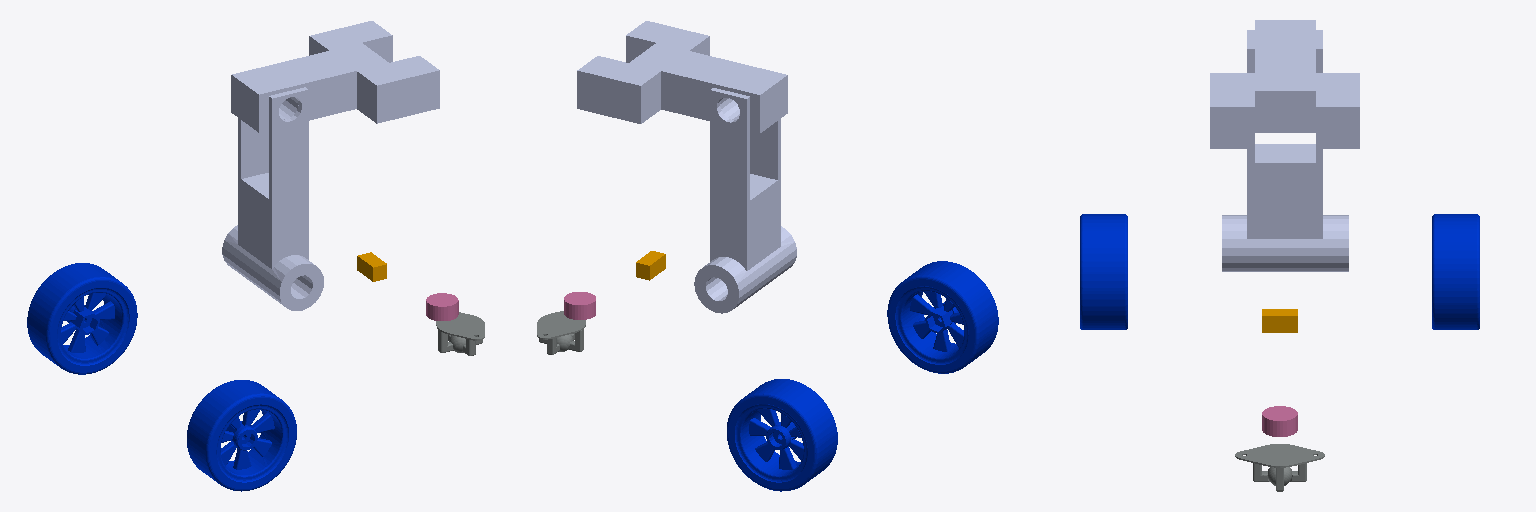
robot.urdf — robot_arm_01:
<?xml version="1.0" encoding="utf-8"?>
<!-- This URDF was automatically created by SolidWorks to URDF Exporter! Originally created by [author] ([email redacted]) 
     Commit Version: 1.6.0-4-g7f85cfe  Build Version: 1.6.7995.38578
     For more information, please see http://wiki.ros.org/sw_urdf_exporter -->
<robot
  name="robot_arm_01">
  <link
    name="base_link">
    <inertial>
      <origin
        xyz="0.0564924196054146 -1.44043492011914E-06 0.00775181685369958"
        rpy="0 0 0" />
      <mass
        value="1.0611224303635671" />
      <inertia
        ixx="0.000949147493648086"
        ixy="3.30685281440265E-09"
        ixz="3.71372356368858E-07"
        iyy="0.0010057196938717"
        iyz="-4.15339567209004E-11"
        izz="0.00191346803726957" />
    </inertial>
    <visual>
      <origin
        xyz="0 0 0"
        rpy="0 0 0" />
      <geometry>
        <mesh
          filename="package://robot_arm_01/meshes/base_link.STL" />
      </geometry>
      <material
        name="">
        <color
          rgba="0.647058823529412 0.619607843137255 0.588235294117647 1" />
      </material>
    </visual>
    <collision>
      <origin
        xyz="0 0 0"
        rpy="0 0 0" />
      <geometry>
        <mesh
          filename="package://robot_arm_01/meshes/base_link.STL" />
      </geometry>
    </collision>
  </link>
  <link
    name="right_wheel_link">
    <inertial>
      <origin
        xyz="-1.34379867899881E-06 -6.23203130722949E-06 -1.10965151169096E-06"
        rpy="0 0 0" />
      <mass
        value="0.0535214416968655" />
      <inertia
        ixx="2.19071660369465E-05"
        ixy="9.8742502469194E-09"
        ixz="-2.21236346159322E-11"
        iyy="3.82236488757542E-05"
        iyz="2.83438951001983E-13"
        izz="2.19071683079018E-05" />
    </inertial>
    <visual>
      <origin
        xyz="0 0 0"
        rpy="0 0 0" />
      <geometry>
        <mesh
          filename="package://robot_arm_01/meshes/right_wheel_link.STL" />
      </geometry>
      <material
        name="">
        <color
          rgba="0.00784313725490196 0.23921568627451 0.823529411764706 1" />
      </material>
    </visual>
    <collision>
      <origin
        xyz="0 0 0"
        rpy="0 0 0" />
      <geometry>
        <mesh
          filename="package://robot_arm_01/meshes/right_wheel_link.STL" />
      </geometry>
    </collision>
  </link>
  <joint
    name="right_wheel_joint"
    type="continuous">
    <origin
      xyz="0 -0.098575 0"
      rpy="0 0 0.00060515" />
    <parent
      link="base_link" />
    <child
      link="right_wheel_link" />
    <axis
      xyz="0 1 0" />

    <limit
      effort="30"
      velocity="0.5" />
  </joint>
  <link
    name="left_wheel_link">
    <inertial>
      <origin
        xyz="-1.59210369621299E-06 6.23380796593853E-06 6.92949931584835E-07"
        rpy="0 0 0" />
      <mass
        value="0.0535214416968649" />
      <inertia
        ixx="2.19071548484918E-05"
        ixy="9.87352239794537E-09"
        ixz="1.64937927801485E-11"
        iyy="3.8223648876639E-05"
        iyz="1.55802829764669E-13"
        izz="2.19071794954712E-05" />
    </inertial>
    <visual>
      <origin
        xyz="0 0 0"
        rpy="0 0 0" />
      <geometry>
        <mesh
          filename="package://robot_arm_01/meshes/left_wheel_link.STL" />
      </geometry>
      <material
        name="">
        <color
          rgba="0.00784313725490196 0.23921568627451 0.823529411764706 1" />
      </material>
    </visual>
    <collision>
      <origin
        xyz="0 0 0"
        rpy="0 0 0" />
      <geometry>
        <mesh
          filename="package://robot_arm_01/meshes/left_wheel_link.STL" />
      </geometry>
    </collision>
  </link>
  <joint
    name="left_wheel_joint"
    type="continuous">
    <origin
      xyz="0 0.098575 0"
      rpy="0 0 0.00060515" />
    <parent
      link="base_link" />
    <child
      link="left_wheel_link" />
    <axis
      xyz="0 1 0" />
    <limit
      effort="30"
      velocity="0.5" />
  </joint>
  <link
    name="arm_01_link">
    <inertial>
      <origin
        xyz="8.22111322307251E-06 0.003 0.0272587782193002"
        rpy="0 0 0" />
      <mass
        value="0.102538043838268" />
      <inertia
        ixx="0.000129174353703012"
        ixy="-7.06346068671281E-20"
        ixz="1.23702011042958E-08"
        iyy="0.000106202495979079"
        iyz="-2.32819838484566E-20"
        izz="3.69225200982517E-05" />
    </inertial>
    <visual>
      <origin
        xyz="0 0 0"
        rpy="0 0 0" />
      <geometry>
        <mesh
          filename="package://robot_arm_01/meshes/arm_01_link.STL" />
      </geometry>
      <material
        name="">
        <color
          rgba="0.792156862745098 0.819607843137255 0.933333333333333 1" />
      </material>
    </visual>
    <collision>
      <origin
        xyz="0 0 0"
        rpy="0 0 0" />
      <geometry>
        <mesh
          filename="package://robot_arm_01/meshes/arm_01_link.STL" />
      </geometry>
    </collision>
  </link>
  <joint
    name="arm_01_joint"
    type="revolute">
    <origin
      xyz="0.081 0 0.0555"
      rpy="0 0 0" />
    <parent
      link="base_link" />
    <child
      link="arm_01_link" />
    <axis
      xyz="0 -1 0" />
    <limit
      lower="-1.5708"
      upper="1.5708"
      effort="30"
      velocity="0.5" />
  </joint>
  <link
    name="arm_02_link">
    <inertial>
      <origin
        xyz="0.048133237264867 0.0029708727483283 2.77555756156289E-17"
        rpy="0 0 0" />
      <mass
        value="0.133331386610855" />
      <inertia
        ixx="6.8965910691227E-05"
        ixy="-1.96552107783491E-07"
        ixz="-2.06885898938365E-20"
        iyy="0.000132392183387768"
        iyz="5.41215227505496E-21"
        izz="0.000185756264289367" />
    </inertial>
    <visual>
      <origin
        xyz="0 0 0"
        rpy="0 0 0" />
      <geometry>
        <mesh
          filename="package://robot_arm_01/meshes/arm_02_link.STL" />
      </geometry>
      <material
        name="">
        <color
          rgba="0.792156862745098 0.819607843137255 0.933333333333333 1" />
      </material>
    </visual>
    <collision>
      <origin
        xyz="0 0 0"
        rpy="0 0 0" />
      <geometry>
        <mesh
          filename="package://robot_arm_01/meshes/arm_02_link.STL" />
      </geometry>
    </collision>
  </link>
  <joint
    name="arm_02_joint"
    type="revolute">
    <origin
      xyz="0 0 0.11554"
      rpy="0 0 0.00060515" />
    <parent
      link="arm_01_link" />
    <child
      link="arm_02_link" />
    <axis
      xyz="-0.00060515 -1 0" />
    <limit
      lower="-1.5708"
      upper="1.5708"
      effort="30"
      velocity="0.5" />
  </joint>
  <link
    name="free_wheel_link">
    <inertial>
      <origin
        xyz="4.2277292777726E-13 -7.01660951563099E-14 0.00376730047514435"
        rpy="0 0 0" />
      <mass
        value="0.0324598989758372" />
      <inertia
        ixx="2.84121859895983E-06"
        ixy="-8.19446473825657E-21"
        ixz="2.85058883326183E-18"
        iyy="2.22141597744477E-06"
        iyz="2.10457212968406E-17"
        izz="3.53698386737172E-06" />
    </inertial>
    <visual>
      <origin
        xyz="0 0 0"
        rpy="0 0 0" />
      <geometry>
        <mesh
          filename="package://robot_arm_01/meshes/free_wheel_link.STL" />
      </geometry>
      <material
        name="">
        <color
          rgba="0.529411764705882 0.549019607843137 0.549019607843137 1" />
      </material>
    </visual>
    <collision>
      <origin
        xyz="0 0 0"
        rpy="0 0 0" />
      <geometry>
        <mesh
          filename="package://robot_arm_01/meshes/free_wheel_link.STL" />
      </geometry>
    </collision>
  </link>
  <joint
    name="free_wheel_joint"
    type="fixed">
    <origin
      xyz="0.213 0 -0.0255"
      rpy="0 0 0" />
    <parent
      link="base_link" />
    <child
      link="free_wheel_link" />
    <axis
      xyz="0 0 0" />
  </joint>


    
    
  <link name="lidar_link">

  <visual>
      <geometry>
        <cylinder length="0.01" radius="0.01"/>
      </geometry>
    </visual>

  </link>

  <joint
    name="lidar_joint"
    type="fixed">
    <origin
      xyz="0.2 0 0.001"
      rpy="0 0 0" />
    <parent
      link="base_link" />
    <child
      link="lidar_link" />
    <axis
      xyz="0 0 0" />
  </joint>


  <link name="imu_link">
  </link>

  <joint
    name="limu_joint"
    type="fixed">
    <origin
      xyz="0.0 0 0.1"
      rpy="0 0 0" />
    <parent
      link="base_link" />
    <child
      link="imu_link" />
    <axis
      xyz="0 0 0" />
  </joint>

  <link name="camera_link">
   <visual>
      <geometry>
        <box size="0.01 0.02 0.01"/>
      </geometry>
    </visual>
  </link>

  <joint
    name="camera_joint"
    type="fixed">
    <origin
      xyz="0.15 0 0.04" 
      rpy="0 0 0" />
    <parent
      link="base_link" />
    <child
      link="camera_link" />
    <axis
      xyz="0 0 0" />
  </joint>


  <gazebo>
    <plugin name="gazebo_ros_control" 
      filename="libgazebo_ros_control.so">
      <robotNamespace>/robot_arm</robotNamespace>
      <robotSimType>gazebo_ros_control/DefaultRobotHWSim</robotSimType>
      <legacyModeNS>true</legacyModeNS>
    </plugin>
  </gazebo>



   <!-- <gazebo reference="right_wheel_link">
    <mu1>0.4</mu1>
    <mu2>0.4</mu2>
    <kp>500000.0</kp>
    <kd>10.0</kd>
    <minDepth>0.001</minDepth>
    <maxVel>0.1</maxVel>
    <fdir1>1 0 0</fdir1>
    <material>Gazebo/FlatBlack</material>
  </gazebo>

  <gazebo reference="left_wheel_link">
    <mu1>0.4</mu1>
    <mu2>0.4</mu2>
    <kp>500000.0</kp>
    <kd>10.0</kd>
    <minDepth>0.001</minDepth>
    <maxVel>0.1</maxVel>
    <fdir1>1 0 0</fdir1>
    <material>Gazebo/FlatBlack</material>
  </gazebo>

 -->


  <gazebo reference="free_wheel_link">
    <mu1>0.1</mu1>
    <mu2>0.1</mu2>
    <kp>500000000.0</kp>
    <kd>1.0</kd>
    <minDepth>0.001</minDepth>
    <maxVel>0.1</maxVel>
    <fdir1>1 0 0</fdir1>
    <material>Gazebo/FlatBlack</material>
  </gazebo>


  <gazebo reference="lidar_link">
    <sensor type="ray" name="head_hokuyo_sensor">
      <pose>0 0 0 0 0 0</pose>
      <visualize>true</visualize>
      <update_rate>40</update_rate>
      <ray>
        <scan>
          <horizontal>
            <samples>720</samples>
            <resolution>1</resolution>
            <min_angle>-1.570796</min_angle>
            <max_angle>1.570796</max_angle>
          </horizontal>
        </scan>
        <range>
          <min>0.10</min>
          <max>30.0</max>
          <resolution>0.01</resolution>
        </range>
        <noise>
          <type>gaussian</type>
          <!-- Noise parameters based on published spec for Hokuyo laser
               achieving "+-30mm" accuracy at range < 10m.  A mean of 0.0m and
               stddev of 0.01m will put 99.7% of samples within 0.03m of the true
               reading. -->
          <mean>0.0</mean>
          <stddev>0.01</stddev>
        </noise>
      </ray>
      <plugin name="gazebo_ros_head_hokuyo_controller" filename="libgazebo_ros_laser.so">
        <topicName>/scan</topicName>
        <frameName>lidar_link</frameName>
      </plugin>
    </sensor>
  </gazebo>


  <!-- camera -->
  <gazebo reference="camera_link">
    <sensor type="camera" name="camera1">
      <update_rate>30.0</update_rate>
       <visualize>true</visualize>
      <camera name="head">
        <horizontal_fov>1.3962634</horizontal_fov>
        <image>
          <width>480</width>
          <height>240</height>
          <format>R8G8B8</format>
        </image>
        <clip>
          <near>0.02</near>
          <far>300</far>
        </clip>
        <noise>
          <type>gaussian</type>
          <!-- Noise is sampled independently per pixel on each frame.
               That pixel's noise value is added to each of its color
               channels, which at that point lie in the range [0,1]. -->
          <mean>0.0</mean>
          <stddev>0.007</stddev>
        </noise>
      </camera>
      <plugin name="camera_controller" filename="libgazebo_ros_camera.so">
        <alwaysOn>true</alwaysOn>
        <updateRate>0.0</updateRate>
        <cameraName>/camera</cameraName>
        <imageTopicName>image_raw</imageTopicName>
        <cameraInfoTopicName>camera_info</cameraInfoTopicName>
        <frameName>camera_link</frameName>
        <hackBaseline>0.07</hackBaseline>
        <distortionK1>0.0</distortionK1>
        <distortionK2>0.0</distortionK2>
        <distortionK3>0.0</distortionK3>
        <distortionT1>0.0</distortionT1>
        <distortionT2>0.0</distortionT2>
      </plugin>
    </sensor>
  </gazebo>

<gazebo reference="imu_link">
    <gravity>true</gravity>
    <sensor name="imu_sensor" type="imu">
      <always_on>true</always_on>
      <update_rate>10</update_rate>
      <visualize>true</visualize>
      <topic>__default_topic__</topic>
      <plugin filename="libgazebo_ros_imu_sensor.so" name="imu_plugin">
        <topicName>imu</topicName>
        <bodyName>imu_link</bodyName>
        <updateRateHZ>10.0</updateRateHZ>
        <gaussianNoise>0.0</gaussianNoise>
        <xyzOffset>0 0 0</xyzOffset>
        <rpyOffset>0 0 0</rpyOffset>
        <frameName>imu_link</frameName>
        <initialOrientationAsReference>false</initialOrientationAsReference>
      </plugin>
      <pose>0 0 0 0 0 0</pose>
    </sensor>
  </gazebo>


  <gazebo>
    <plugin name="robot_base" filename="libgazebo_ros_diff_drive.so">
      <commandTopic>cmd_vel</commandTopic>
      <odometryTopic>odom</odometryTopic>
      <odometryFrame>odom</odometryFrame>
      <odometrySource>world</odometrySource>
      <publishOdomTF>true</publishOdomTF>
      <robotBaseFrame>base_link</robotBaseFrame>
      <publishWheelTF>false</publishWheelTF>
      <publishTf>true</publishTf>
      <publishWheelJointState>true</publishWheelJointState>
      <legacyMode>false</legacyMode>
      <updateRate>30</updateRate>
      <leftJoint>left_wheel_joint</leftJoint>
      <rightJoint>right_wheel_joint</rightJoint>
      <wheelSeparation>0.160</wheelSeparation>
      <wheelDiameter>0.066</wheelDiameter>
      <wheelAcceleration>1</wheelAcceleration>
      <wheelTorque>50</wheelTorque>
      <rosDebugLevel>na</rosDebugLevel>
    </plugin>
  </gazebo>







<!-- Transmission   -->
  <transmission name="j1">
    <type>transmission_interface/SimpleTransmission</type>
    <joint name="arm_01_joint">
      <hardwareInterface>hardware_interface/PositionJointInterface</hardwareInterface>
    </joint>
    <actuator name="M1">
      <hardwareInterface>hardware_interface/PositionJointInterface</hardwareInterface>
      <mechanicalReduction>1</mechanicalReduction>
    </actuator>
  </transmission>

  <transmission name="j2">
    <type>transmission_interface/SimpleTransmission</type>
    <joint name="arm_02_joint">
      <hardwareInterface>hardware_interface/PositionJointInterface</hardwareInterface>
    </joint>
    <actuator name="M2">
      <hardwareInterface>hardware_interface/PositionJointInterface</hardwareInterface>
      <mechanicalReduction>1</mechanicalReduction>
    </actuator>
  </transmission>



</robot>

--- Facts derived from the render (not from the file) ---
Views: 3 orthographic renders of the robot side by side, from view 1: azimuth 30°, elevation 25°; view 2: azimuth 150°, elevation 25°; view 3: azimuth 270°, elevation 25°.
Model robot_arm_01 with 9 links and 8 joints (2 revolute, 2 continuous, 4 fixed), rooted at base_link, posed all joints at 0.
Links seen in each view (by area): view 1: arm_01_link, arm_02_link, left_wheel_link, right_wheel_link, free_wheel_link, lidar_link, camera_link; view 2: arm_01_link, arm_02_link, right_wheel_link, left_wheel_link, free_wheel_link, lidar_link, camera_link; view 3: arm_02_link, arm_01_link, right_wheel_link, left_wheel_link, free_wheel_link, lidar_link, camera_link.
Boxes of the visible links, bbox=[...] form: arm_01_link: bbox=[222, 87, 323, 310]; arm_02_link: bbox=[231, 21, 439, 132]; left_wheel_link: bbox=[27, 263, 137, 374]; right_wheel_link: bbox=[187, 380, 296, 491]; free_wheel_link: bbox=[436, 312, 484, 355]; lidar_link: bbox=[426, 293, 458, 320]; camera_link: bbox=[357, 252, 386, 281]; arm_01_link: bbox=[694, 88, 796, 313]; arm_02_link: bbox=[577, 21, 787, 132]; right_wheel_link: bbox=[887, 261, 998, 373]; left_wheel_link: bbox=[727, 379, 837, 491]; free_wheel_link: bbox=[537, 311, 585, 354]; lidar_link: bbox=[564, 292, 595, 319]; camera_link: bbox=[636, 251, 665, 280]; arm_02_link: bbox=[1210, 20, 1359, 148]; arm_01_link: bbox=[1222, 30, 1348, 271]; right_wheel_link: bbox=[1080, 214, 1127, 329]; left_wheel_link: bbox=[1432, 214, 1479, 329]; free_wheel_link: bbox=[1235, 444, 1324, 491]; lidar_link: bbox=[1262, 406, 1297, 436]; camera_link: bbox=[1262, 309, 1297, 332].
Size in the robot's own frame: 0.2605 by 0.2242 by 0.2165 metres.
Meshes: 6 distinct files referenced, 5 mesh visuals loaded (5 binary STL); not drawn: 1 (reference not matched to a file when rendering).
